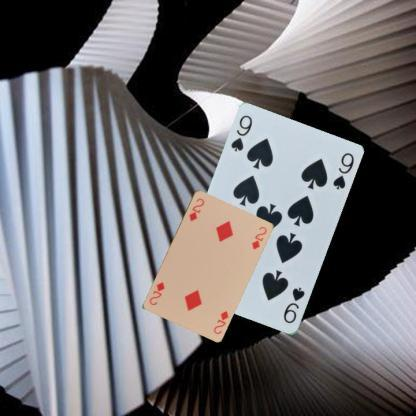2d: (186, 196, 205, 223), (211, 308, 230, 335)
9s: (229, 112, 254, 154), (280, 285, 306, 325)
